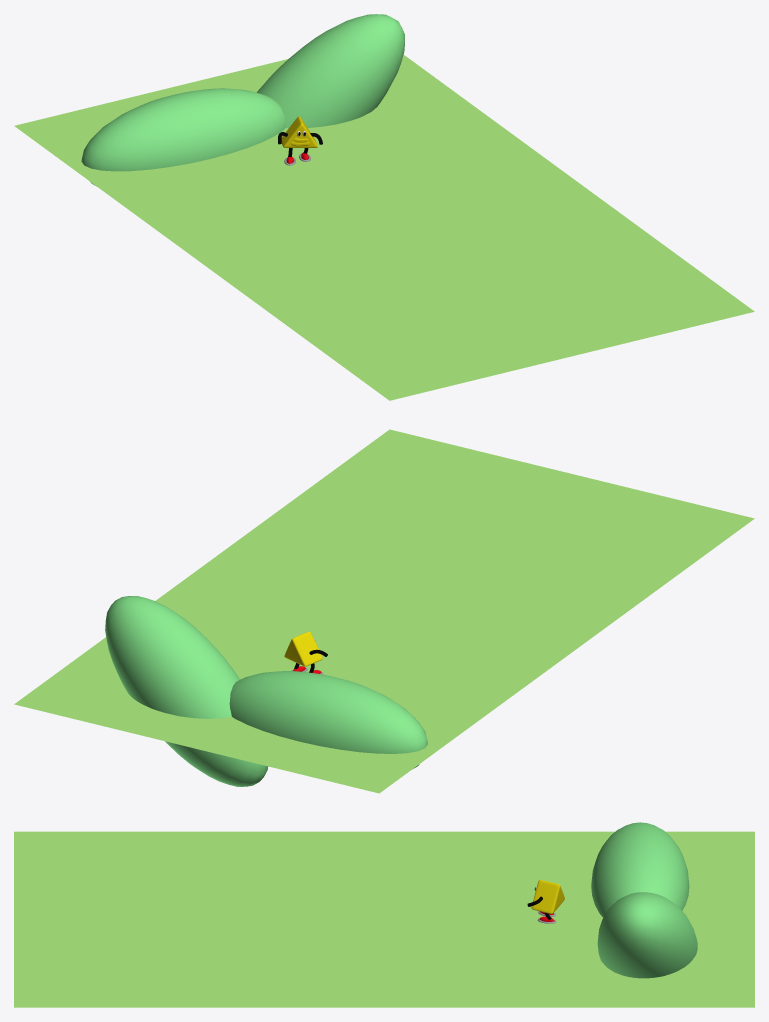
Rendered from Music.glb.
3 views of the same model, one above another, from view 1: azimuth 30°, elevation 25°; view 2: azimuth 150°, elevation 25°; view 3: azimuth 270°, elevation 25° (orthographic).
Visible parts, largest first — view 1: Cube.005, Sphere.002, Sphere.003, Cube; view 2: Cube.005, Sphere.003, Sphere.002, Cube; view 3: Cube.005, Sphere.003, Sphere.002, Cube.
Boxes of the visible parts, box(x1,y1,x2,y2) form: Cube.005: box(14, 55, 754, 400); Sphere.002: box(81, 88, 285, 186); Sphere.003: box(257, 14, 404, 128); Cube: box(281, 116, 317, 147); Cube.005: box(14, 429, 754, 793); Sphere.003: box(105, 596, 268, 786); Sphere.002: box(229, 671, 427, 768); Cube: box(284, 631, 322, 666); Cube.005: box(14, 831, 754, 1007); Sphere.003: box(597, 892, 697, 978); Sphere.002: box(591, 822, 689, 917); Cube: box(531, 880, 564, 913).
Size of the model in its own units: 117 by 46.21 by 209.
